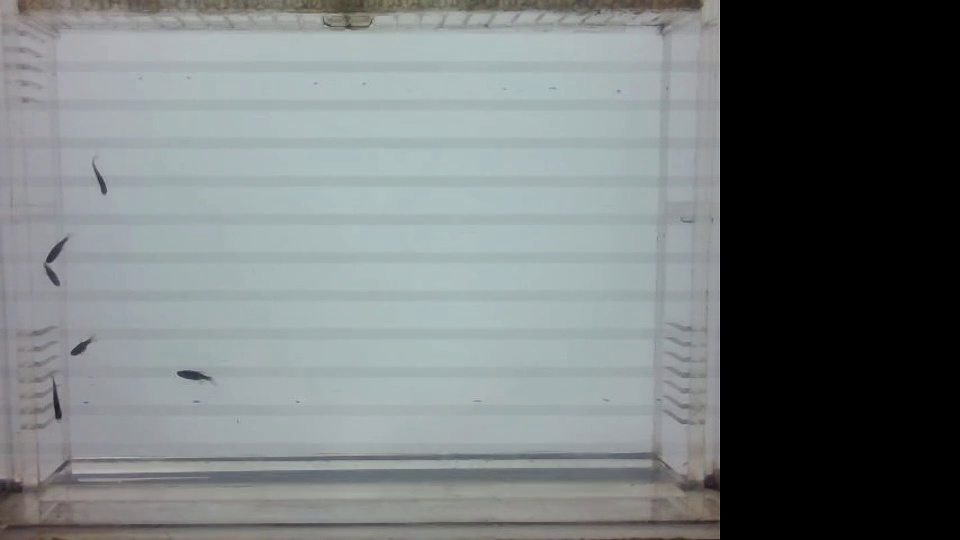fish: (42, 372, 70, 428), (61, 324, 101, 361), (80, 156, 114, 198), (164, 364, 221, 386), (36, 233, 69, 268), (29, 260, 64, 289)
